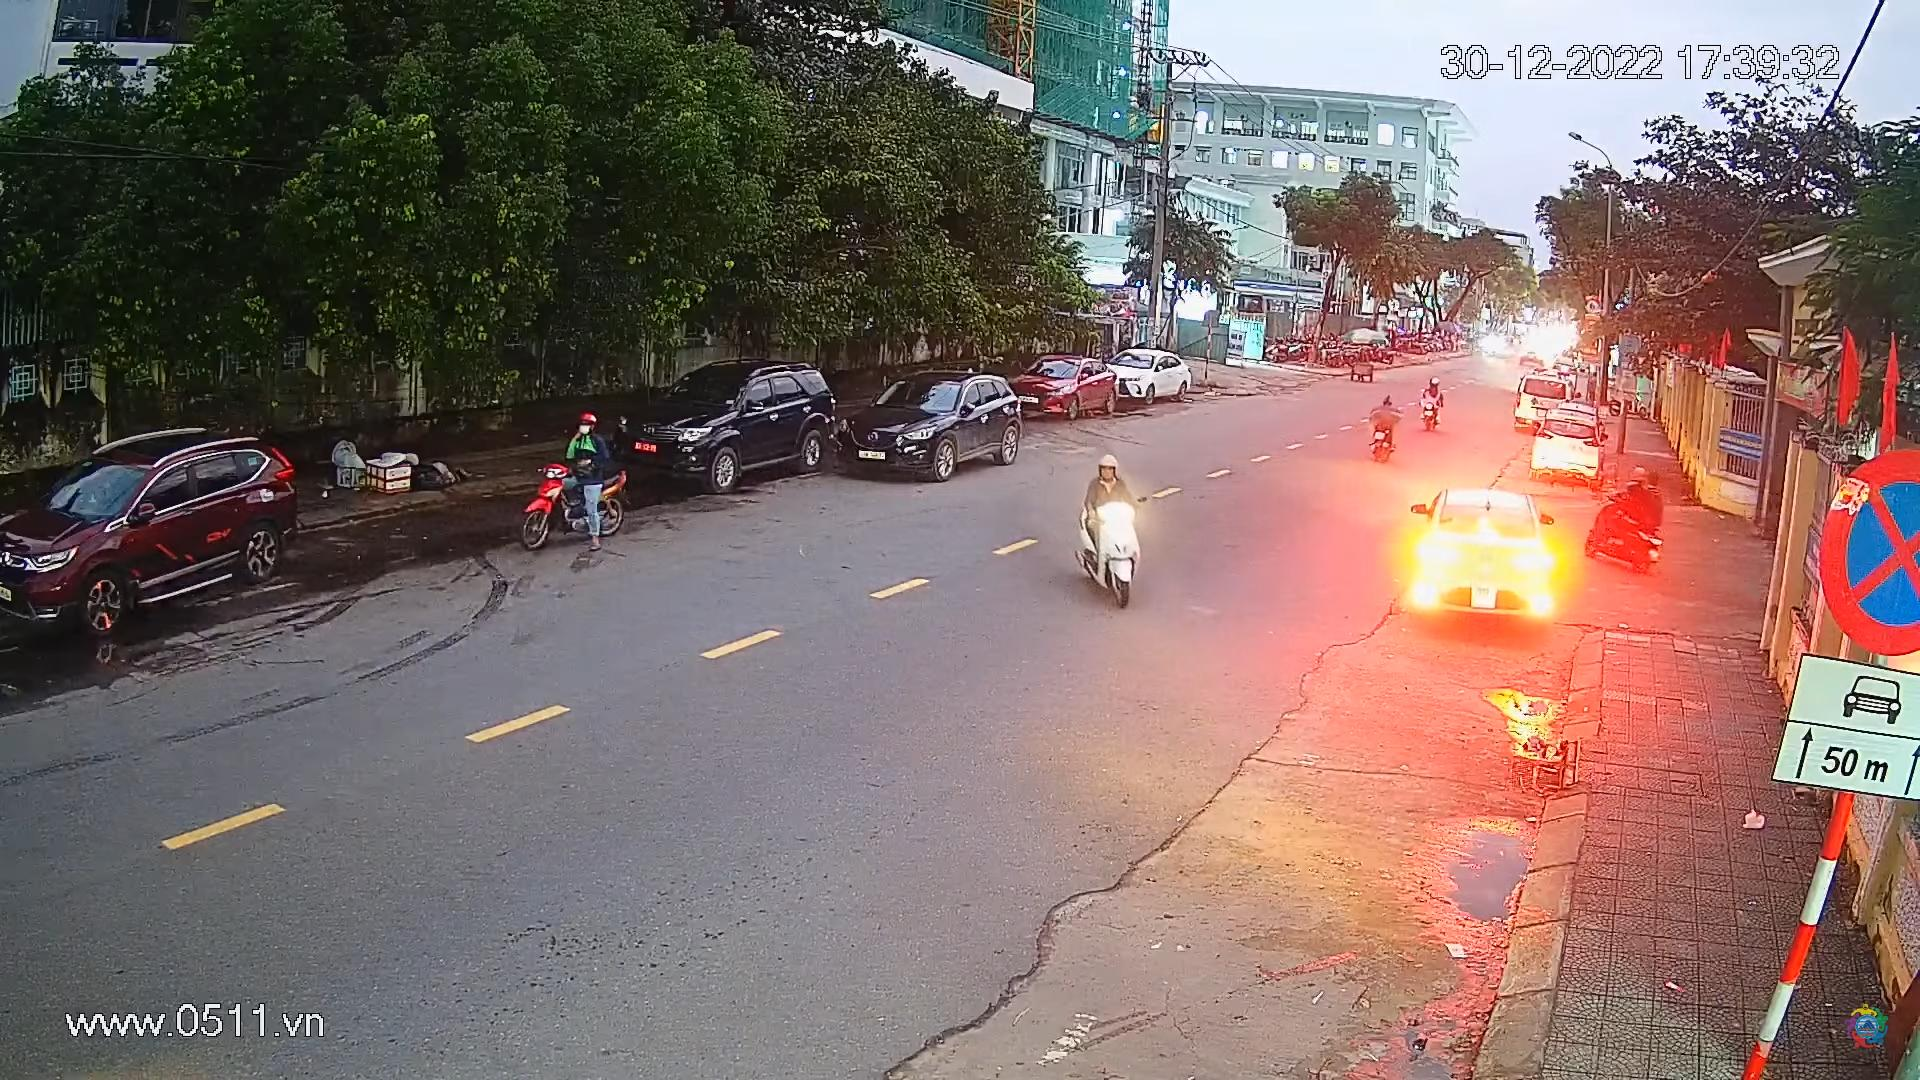car: (0, 419, 302, 638), (1393, 465, 1572, 644), (616, 359, 843, 493), (848, 365, 1026, 485), (1015, 347, 1121, 423), (1534, 407, 1602, 491), (1112, 336, 1191, 404)
motorcycle: (512, 406, 633, 550), (1069, 436, 1167, 615), (1584, 463, 1669, 568), (1515, 375, 1573, 442), (1366, 390, 1403, 475), (1414, 373, 1447, 435)
